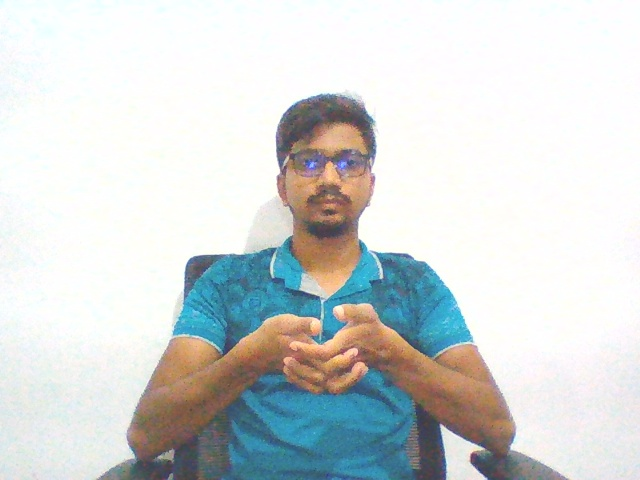mangosteen: (229, 289, 405, 408)
